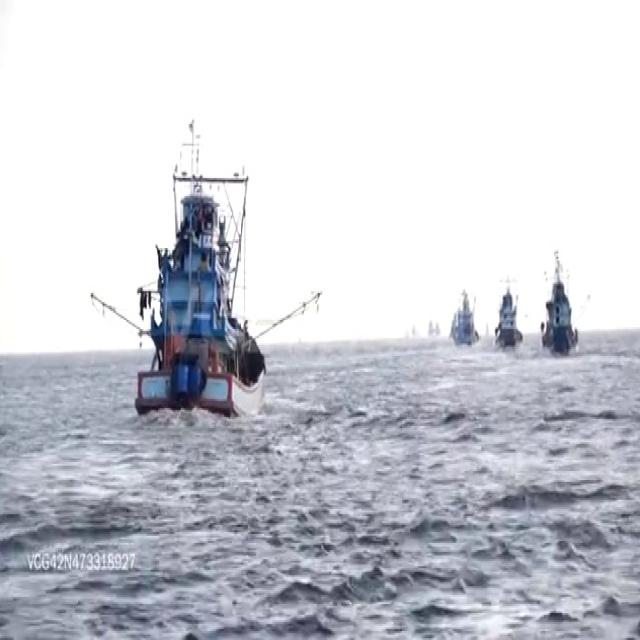fishing boat: (131, 132, 265, 418), (542, 256, 578, 351), (494, 274, 522, 350), (452, 279, 478, 348)
